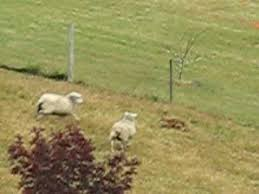sheep: (37, 89, 84, 125), (110, 109, 140, 153)
